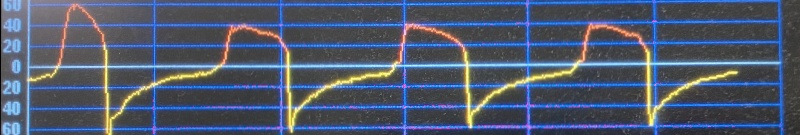normal_flow: (28, 8, 749, 135)
